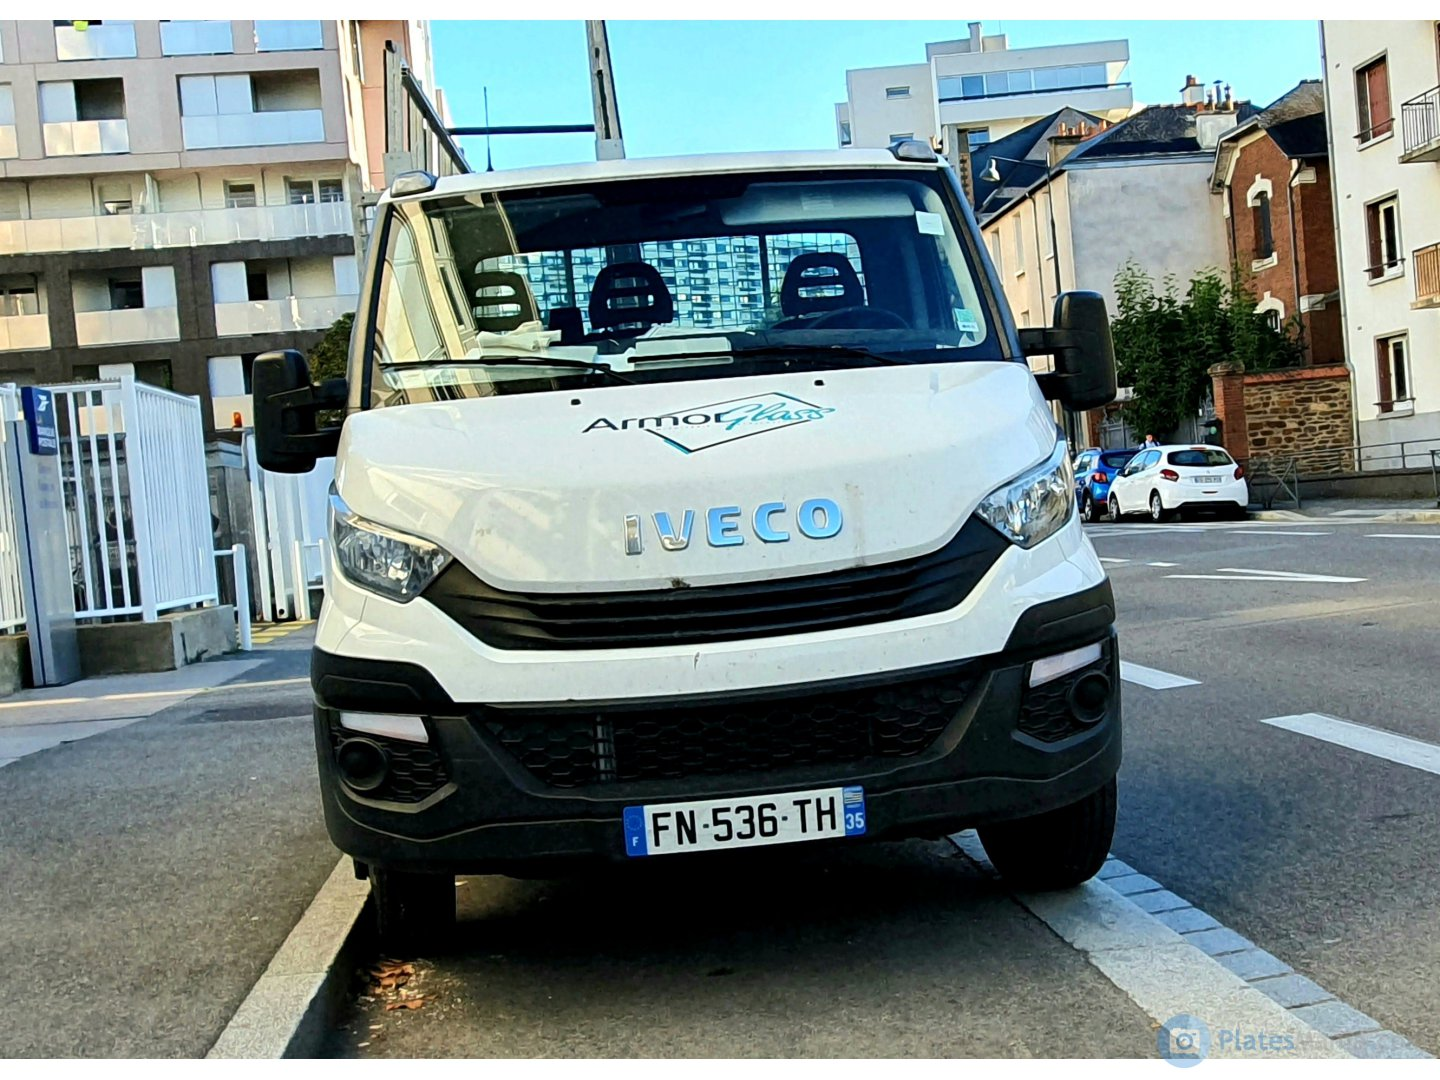licence plate: (619, 779, 872, 861)
